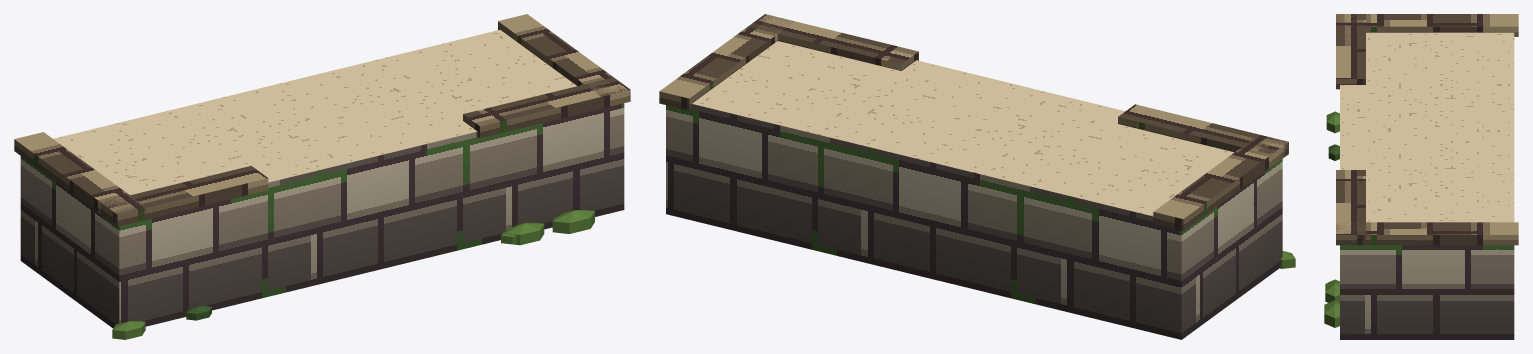
The model's file is scene_plat_o1.glb.
The picture shows the model from 3 angles, left to right: view 1: azimuth 30°, elevation 25°; view 2: azimuth 150°, elevation 25°; view 3: azimuth 270°, elevation 25°; orthographic projection. The views are drawn at different scales.
Visible parts, largest first — view 1: scene_plat_o1; view 2: scene_plat_o1; view 3: scene_plat_o1.
Part boxes in pixels (box(x1,y1,x2,y2)): scene_plat_o1: box(14, 14, 630, 339); scene_plat_o1: box(659, 14, 1295, 339); scene_plat_o1: box(1324, 14, 1518, 339).
Size of the model in its own units: 6.37 by 1.51 by 2.34.
Materials: 3 (2 with a texture image).
